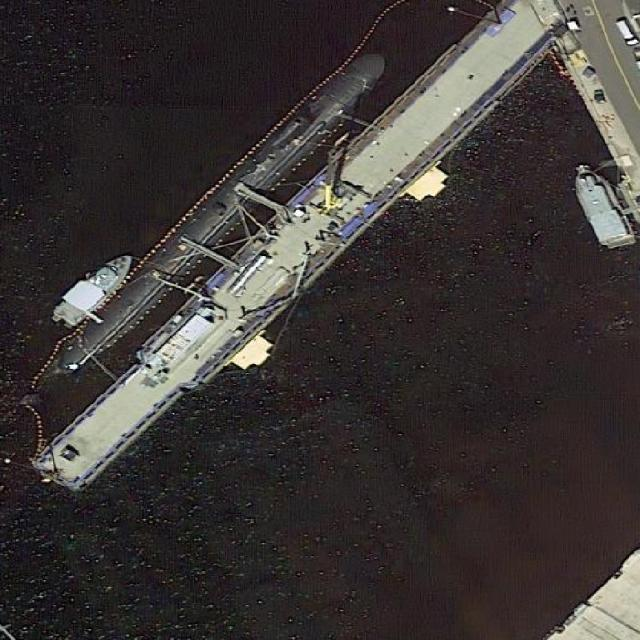Dock: (23, 4, 543, 506)
Submarine: (39, 38, 394, 393)
